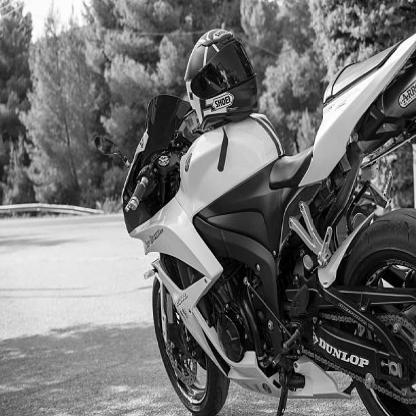Motorcycle: (118, 25, 415, 415)
